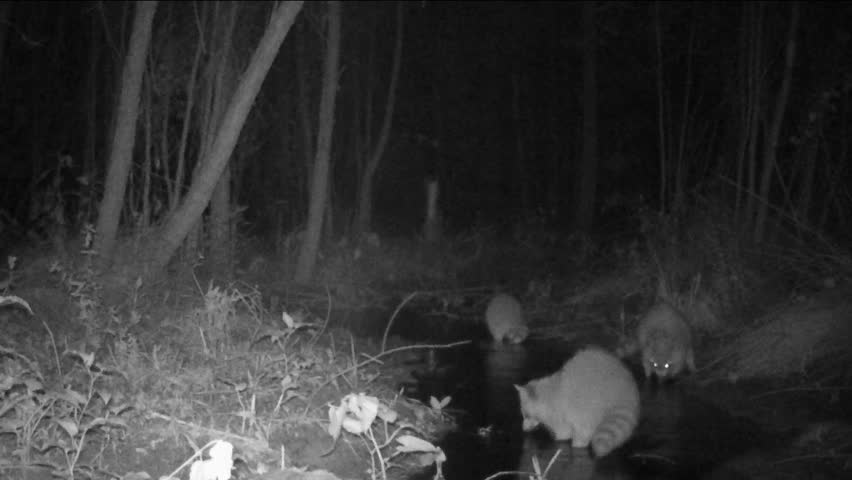raccoon: (510, 345, 649, 447), (637, 304, 698, 388), (482, 280, 539, 346)
